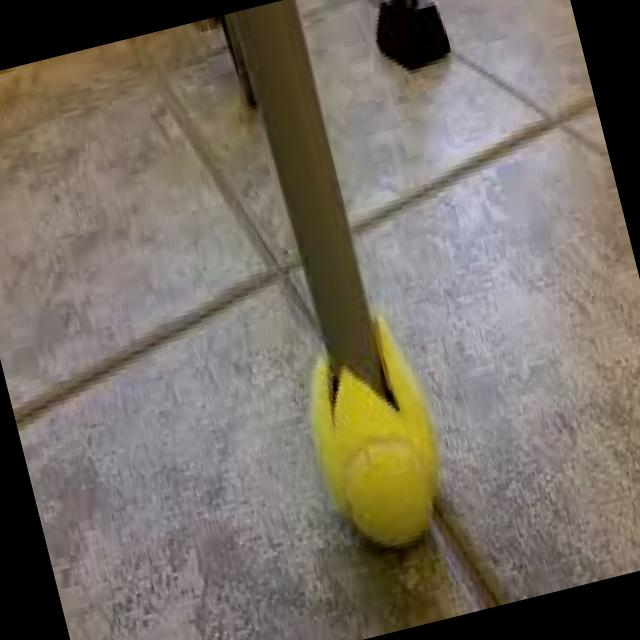tennis-ball: (294, 332, 457, 560)
